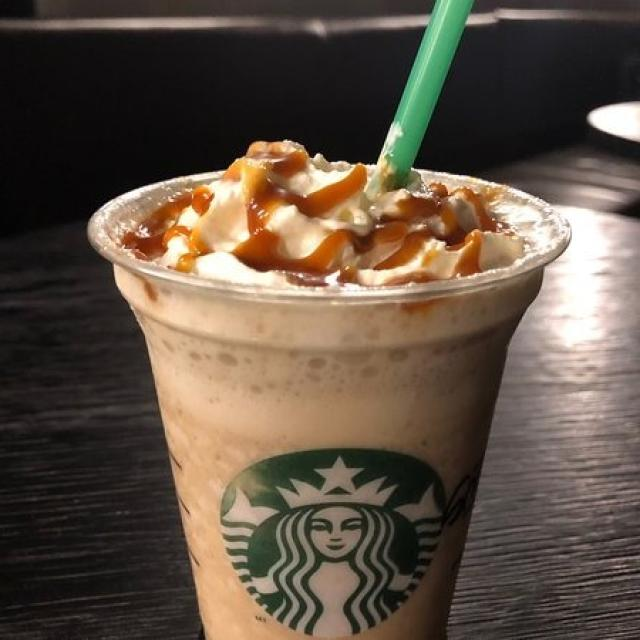starbucks: (221, 437, 453, 640)
